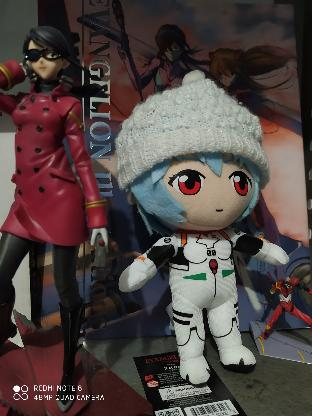rei-plush: (114, 148, 290, 390)
